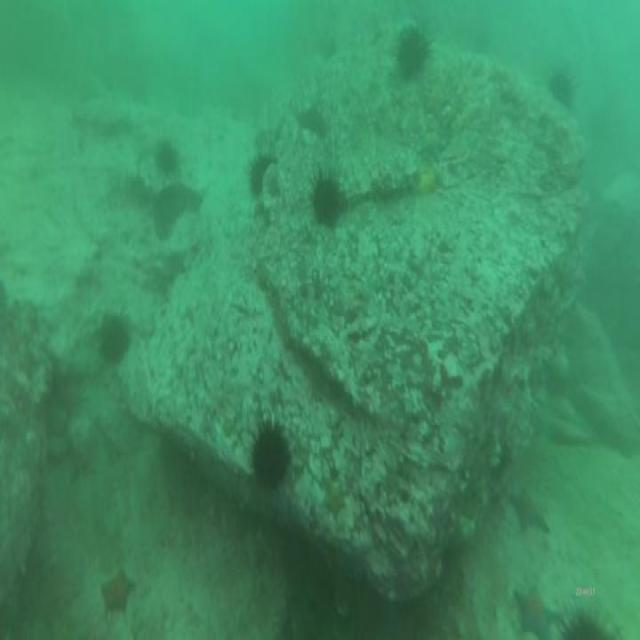echinus: (245, 416, 295, 498), (394, 22, 434, 85), (309, 166, 345, 227), (95, 312, 133, 368), (556, 610, 620, 640), (548, 60, 580, 114), (246, 152, 278, 202), (153, 139, 179, 182)
starfish: (513, 577, 557, 640), (98, 561, 136, 618), (510, 487, 550, 539), (320, 476, 349, 524)
